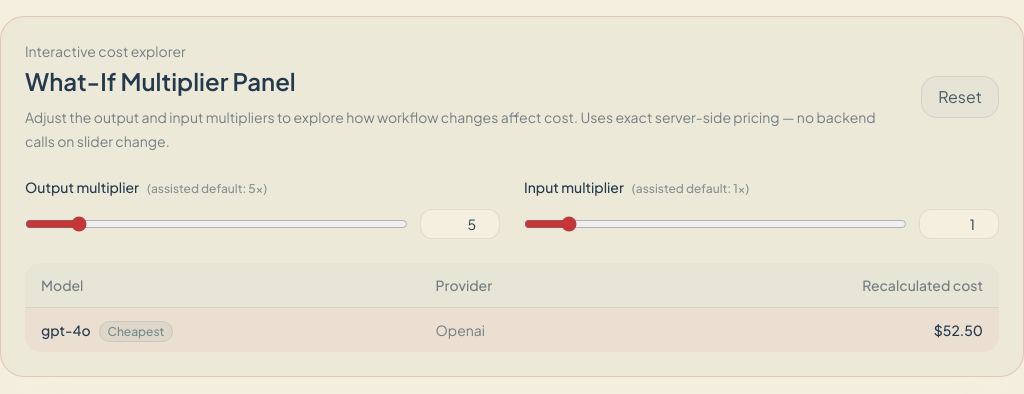
WhatIfPanel — Reset restores defaults › resets outputMult to 5 after change, for ASSISTED mode
The width and height of the screenshot is (1024, 394).
Replace the text in the number field labelled "Output multiplier(assisted default: 5×)" with "10" at (460, 224), box [420,209,500,239]
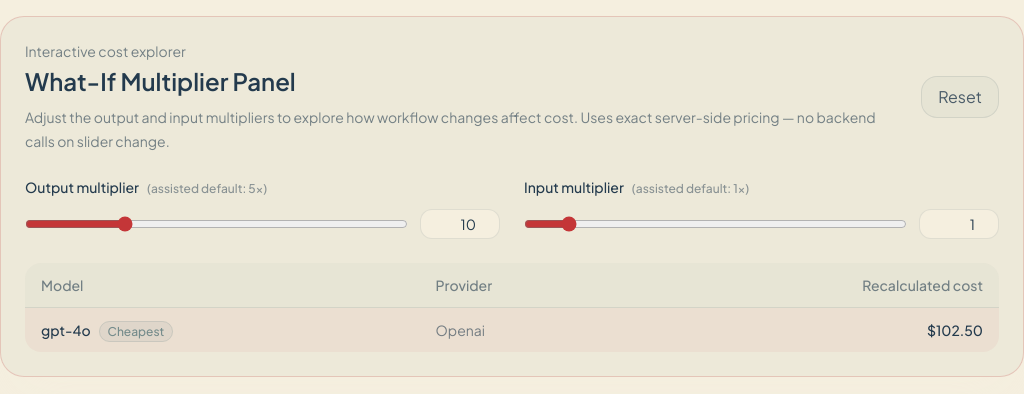
Click the button "Reset".
click(960, 97)  # box [921,76,999,118]
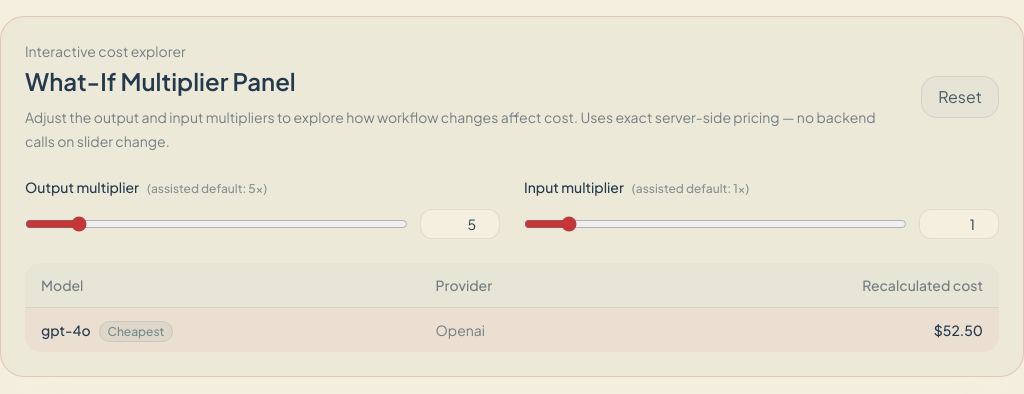
Now the number field labelled "Output multiplier(assisted default: 5×)" holds "5", box [420,209,500,239]
